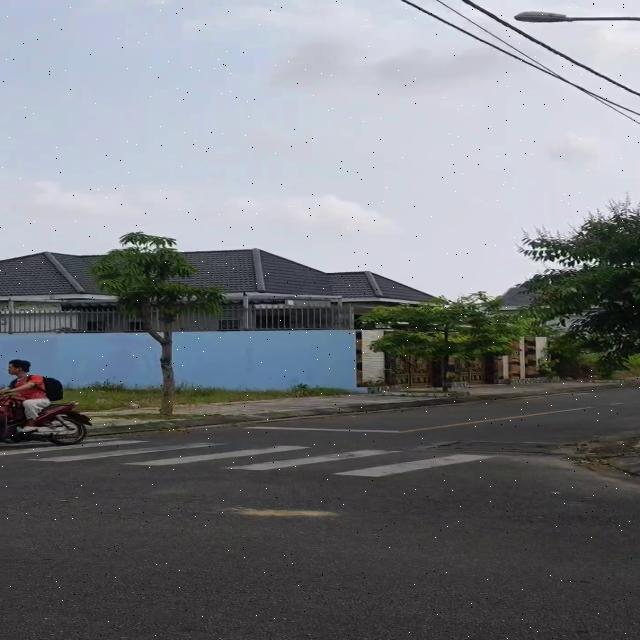no_helmet: (7, 357, 30, 380)
